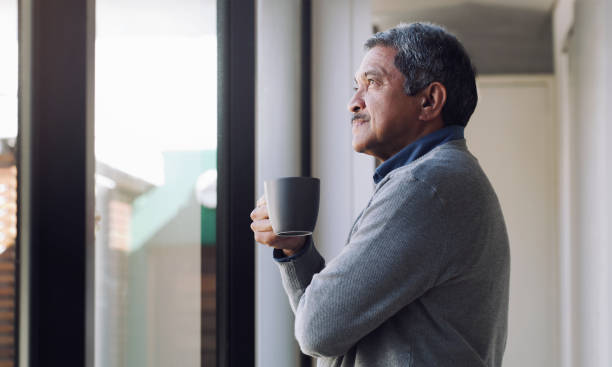without mask: (345, 34, 438, 155)
